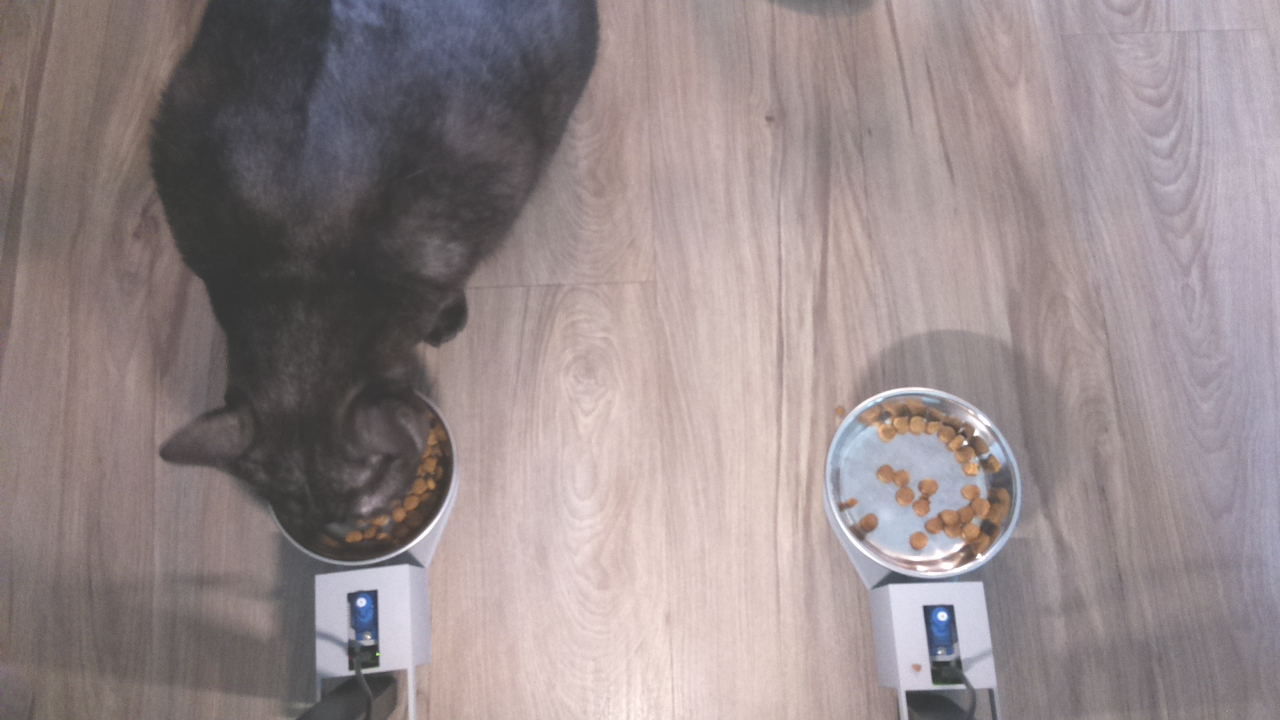open_bowl: (820, 382, 1022, 584)
saki_eating: (154, 297, 480, 576)
